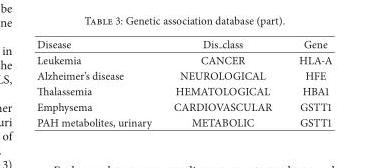table: (36, 36, 331, 129)
table column: (36, 36, 161, 129), (161, 36, 284, 129), (284, 36, 331, 129)
table column header: (36, 36, 331, 51)
table row: (36, 51, 331, 67), (36, 67, 331, 83), (36, 98, 331, 114), (36, 36, 331, 51), (36, 83, 331, 98), (36, 114, 331, 129)
